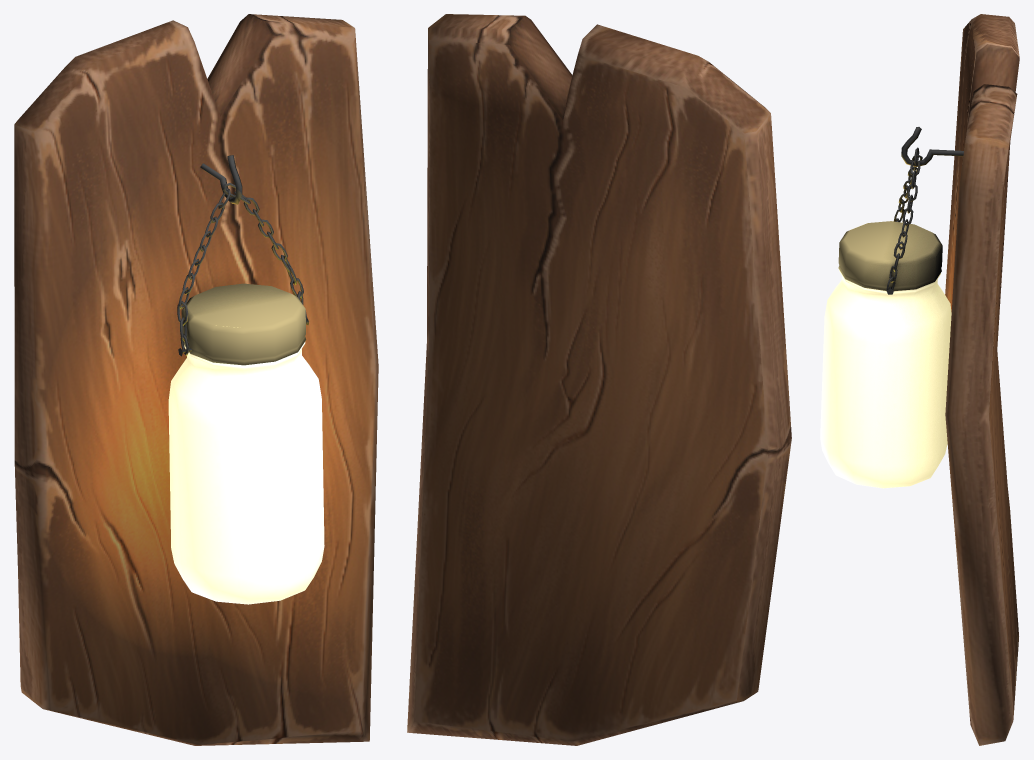
The model's file is asset.gltf.
3 renders of one model, left to right at view 1: azimuth 30°, elevation 25°; view 2: azimuth 150°, elevation 25°; view 3: azimuth 270°, elevation 25°, orthographic. The views are drawn at different scales.
Size of the model in its own units: 2.2 by 4.45 by 1.28.
Materials: 1 (1 with a texture image).
